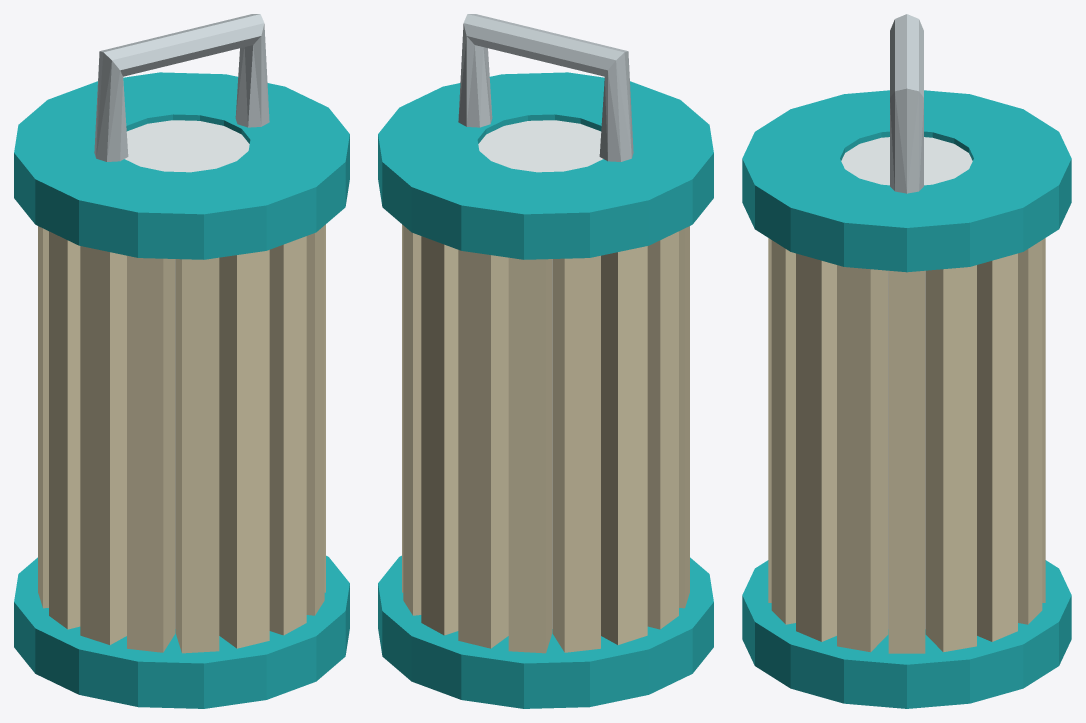
Rendered from AQUA-014.glb.
3 views of the same model, side by side, from view 1: azimuth 30°, elevation 25°; view 2: azimuth 150°, elevation 25°; view 3: azimuth 270°, elevation 25° (orthographic). The views are drawn at different scales.
Parts seen in each view (by area): view 1: AQUA-014; view 2: AQUA-014; view 3: AQUA-014.
Part boxes in pixels (x1,y1,x2,y2): AQUA-014: (14,14,349,708); AQUA-014: (378,14,713,708); AQUA-014: (742,14,1071,708).
Bounding box in the file's own units: 0.54 × 1.06 × 0.54.
